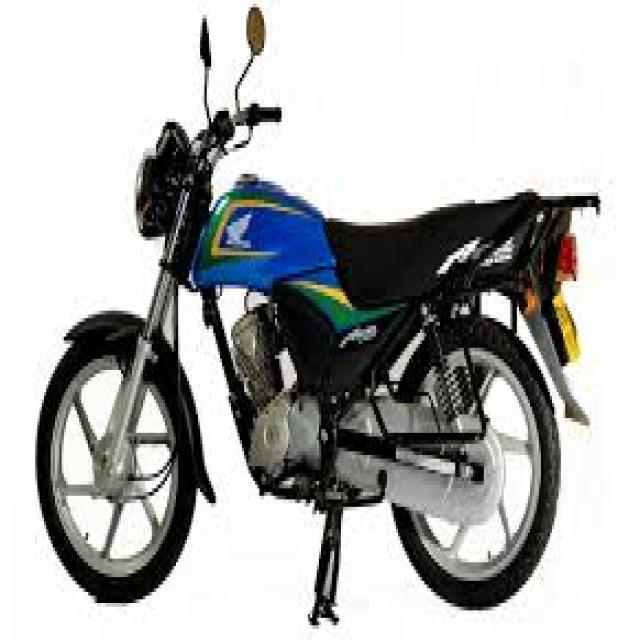bodaboda: (25, 7, 623, 632)
